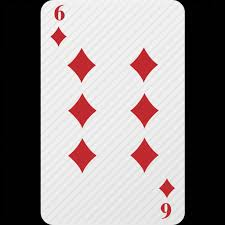six of diamonds: (44, 5, 185, 218)
